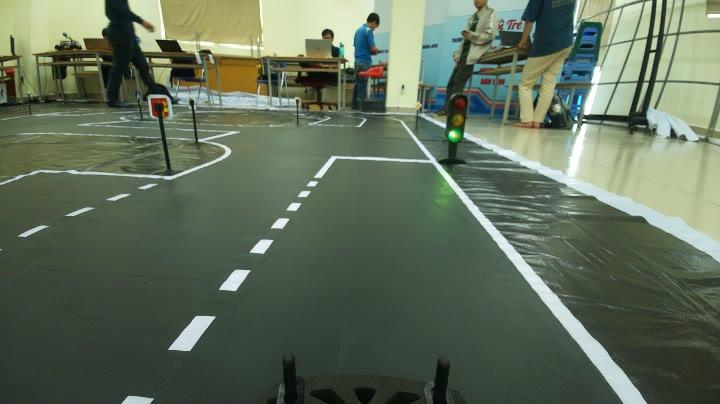trafficlight: (430, 86, 475, 172)
